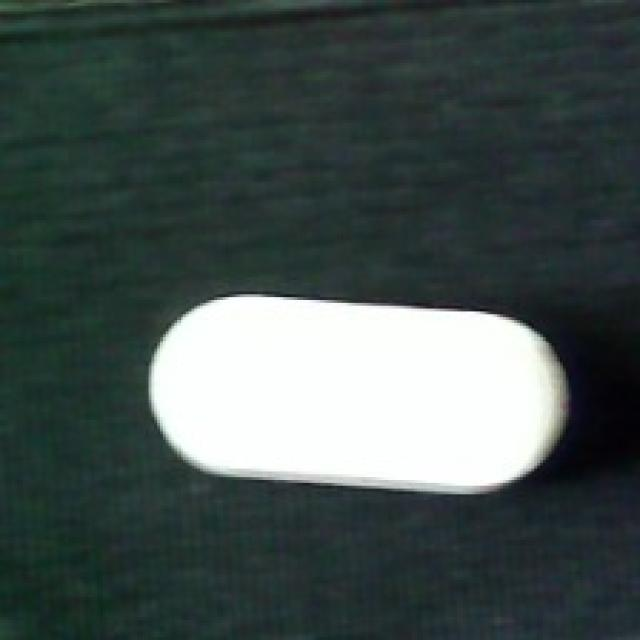no-defect: (146, 286, 571, 500)
